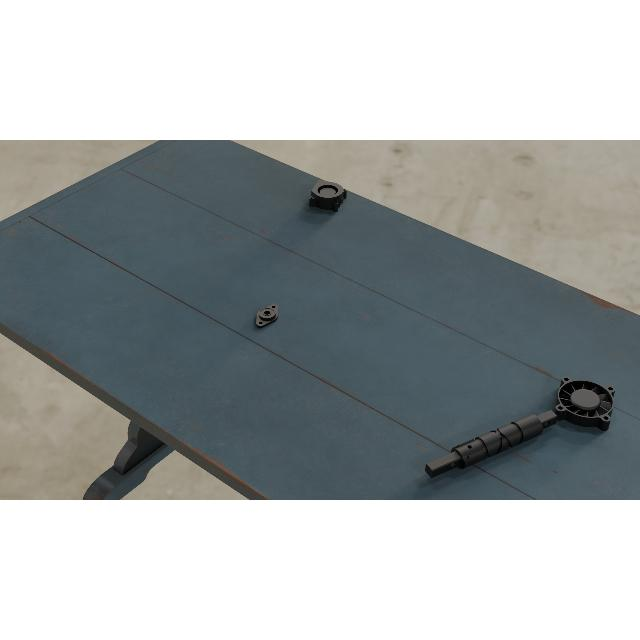Pieza1: (422, 402, 562, 486)
Pieza2: (249, 300, 285, 330)
Pieza3: (308, 179, 348, 213)
Pieza4: (552, 375, 616, 433)
